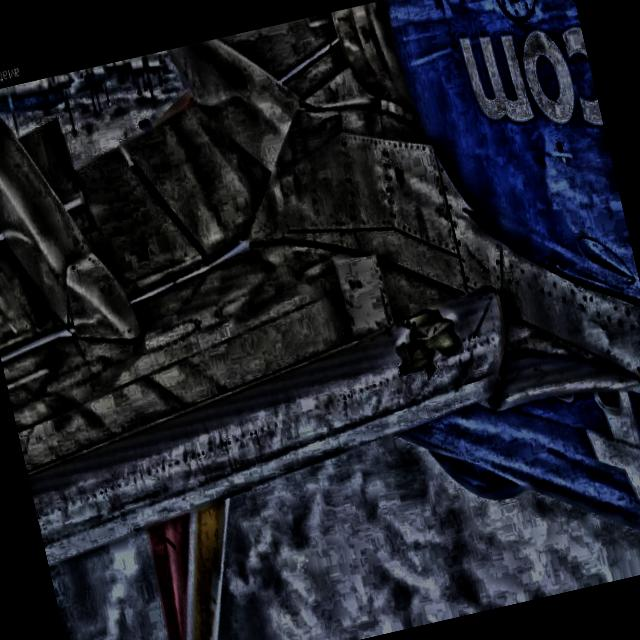crack: (386, 299, 465, 376)
